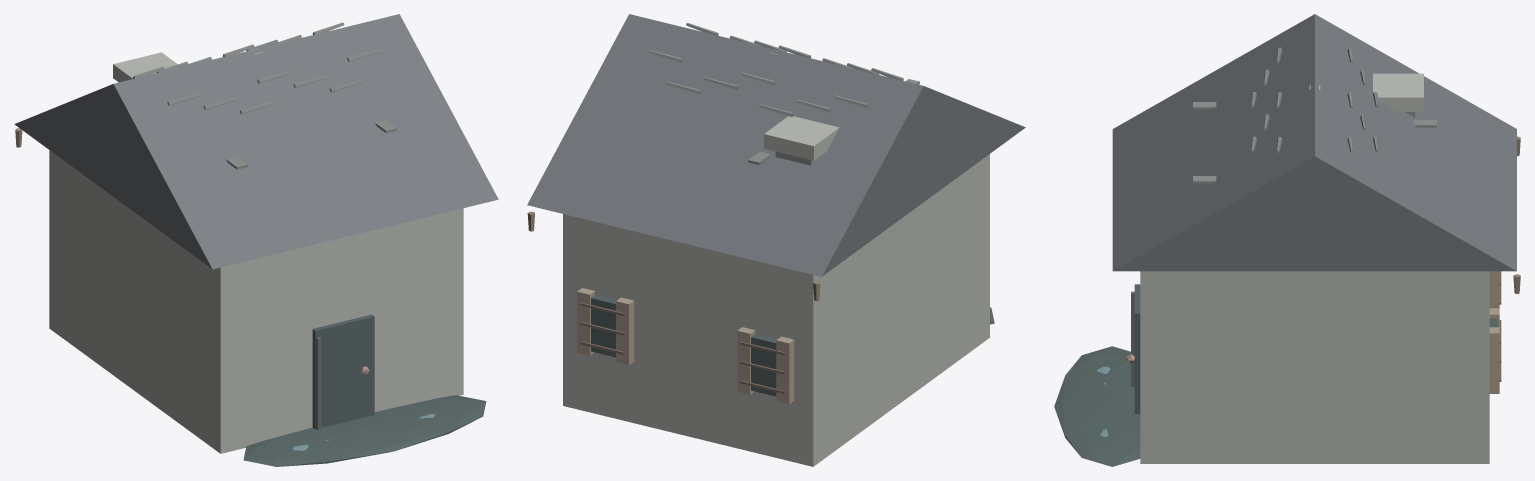
The model's file is drowned_waychapel.glb.
The picture shows the model from 3 angles, left to right: view 1: azimuth 30°, elevation 25°; view 2: azimuth 150°, elevation 25°; view 3: azimuth 270°, elevation 25°; orthographic projection. The views are drawn at different scales.
Parts seen in each view (by area): view 1: drowned_waychapel_material_00, drowned_waychapel_material_06, drowned_waychapel_material_02, drowned_waychapel_material_09, drowned_waychapel_material_07, drowned_waychapel_material_03; view 2: drowned_waychapel_material_00, drowned_waychapel_material_06, drowned_waychapel_material_05, drowned_waychapel_material_02, drowned_waychapel_material_09, drowned_waychapel_material_01, drowned_waychapel_material_07; view 3: drowned_waychapel_material_06, drowned_waychapel_material_00, drowned_waychapel_material_02, drowned_waychapel_material_05, drowned_waychapel_material_07, drowned_waychapel_material_09.
Boxes of the visible parts, bbox=[...] form: drowned_waychapel_material_00: bbox=[49, 48, 463, 453]; drowned_waychapel_material_06: bbox=[14, 14, 498, 269]; drowned_waychapel_material_02: bbox=[243, 314, 486, 466]; drowned_waychapel_material_09: bbox=[167, 22, 380, 114]; drowned_waychapel_material_07: bbox=[133, 35, 396, 169]; drowned_waychapel_material_03: bbox=[316, 337, 321, 430]; drowned_waychapel_material_00: bbox=[563, 49, 989, 466]; drowned_waychapel_material_06: bbox=[527, 14, 1025, 276]; drowned_waychapel_material_05: bbox=[577, 288, 794, 404]; drowned_waychapel_material_02: bbox=[591, 295, 994, 396]; drowned_waychapel_material_09: bbox=[648, 22, 903, 85]; drowned_waychapel_material_01: bbox=[580, 302, 785, 393]; drowned_waychapel_material_07: bbox=[667, 42, 919, 165]; drowned_waychapel_material_06: bbox=[1112, 14, 1516, 271]; drowned_waychapel_material_00: bbox=[1140, 73, 1489, 463]; drowned_waychapel_material_02: bbox=[1054, 284, 1497, 466]; drowned_waychapel_material_05: bbox=[1489, 271, 1499, 393]; drowned_waychapel_material_07: bbox=[1193, 47, 1436, 183]; drowned_waychapel_material_09: bbox=[1251, 47, 1353, 152].
Bounding box in the file's own units: 3.18 × 3.34 × 4.41.
